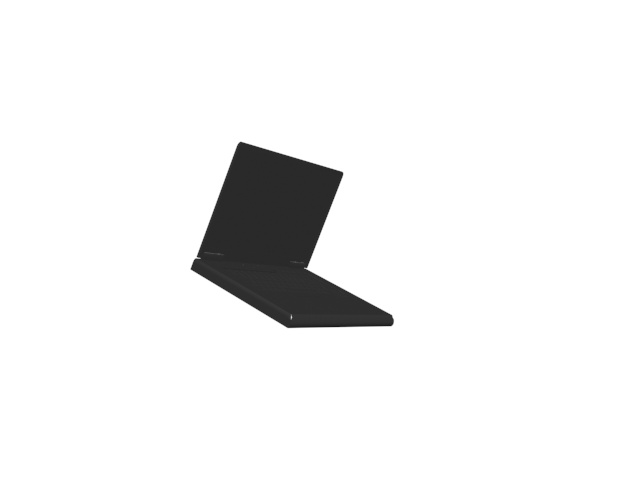laptop_computer: (185, 137, 400, 336)
